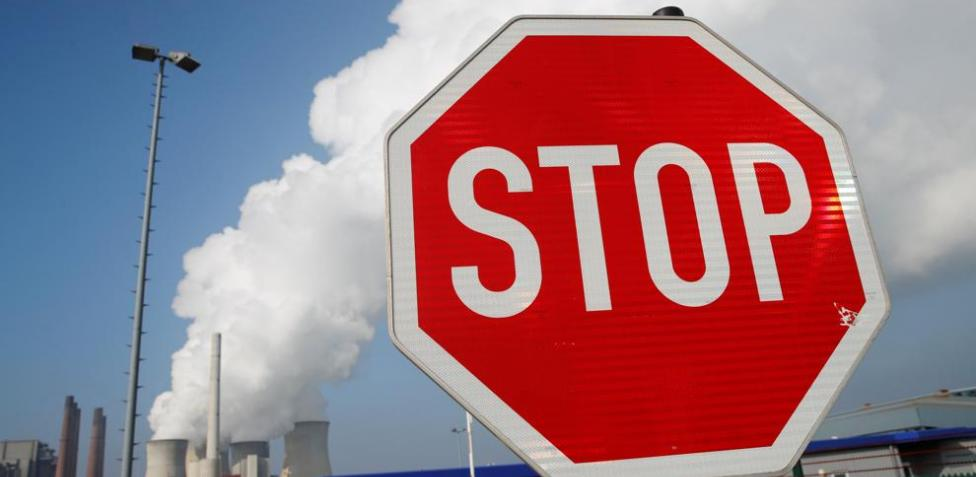Poste: (368, 12, 899, 477)
